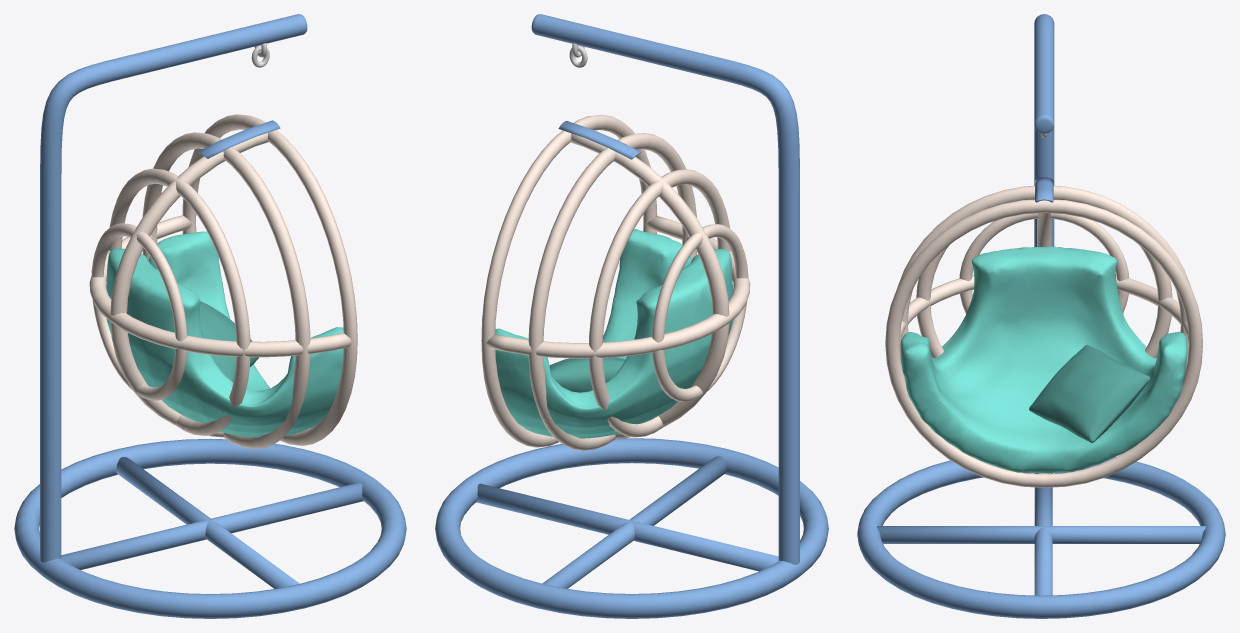
File: transition_deco.glb
3 renders of one model, left to right at view 1: azimuth 30°, elevation 25°; view 2: azimuth 150°, elevation 25°; view 3: azimuth 270°, elevation 25°, orthographic. The views are drawn at different scales.
Parts seen in each view (by area): view 1: 贝塞尔圆.006, Torus.003, 立方体.070, 贝塞尔圆.008, 立方体.069, 贝塞尔圆.002; view 2: 贝塞尔圆.006, Torus.003, 立方体.070, 贝塞尔圆.008, 立方体.069, 贝塞尔圆.002; view 3: 立方体.070, 贝塞尔圆.006, Torus.003, 立方体.069, 贝塞尔圆.008.
Boxes of the visible parts, x1,y1,x2,y2 form: 贝塞尔圆.006: (89,114,357,448); Torus.003: (14,438,406,618); 立方体.070: (106,231,343,437); 贝塞尔圆.008: (40,14,307,562); 立方体.069: (200,301,258,381); 贝塞尔圆.002: (198,120,280,158); 贝塞尔圆.006: (481,114,750,450); Torus.003: (435,438,828,618); 立方体.070: (495,229,733,438); 贝塞尔圆.008: (531,14,799,564); 立方体.069: (549,357,625,392); 贝塞尔圆.002: (558,120,640,159); 立方体.070: (900,246,1187,473); 贝塞尔圆.006: (885,185,1202,487); Torus.003: (857,457,1225,618); 立方体.069: (1029,344,1150,442); 贝塞尔圆.008: (1034,14,1054,246).
Bounding box in the file's own units: 1.73 × 2.44 × 1.73.
